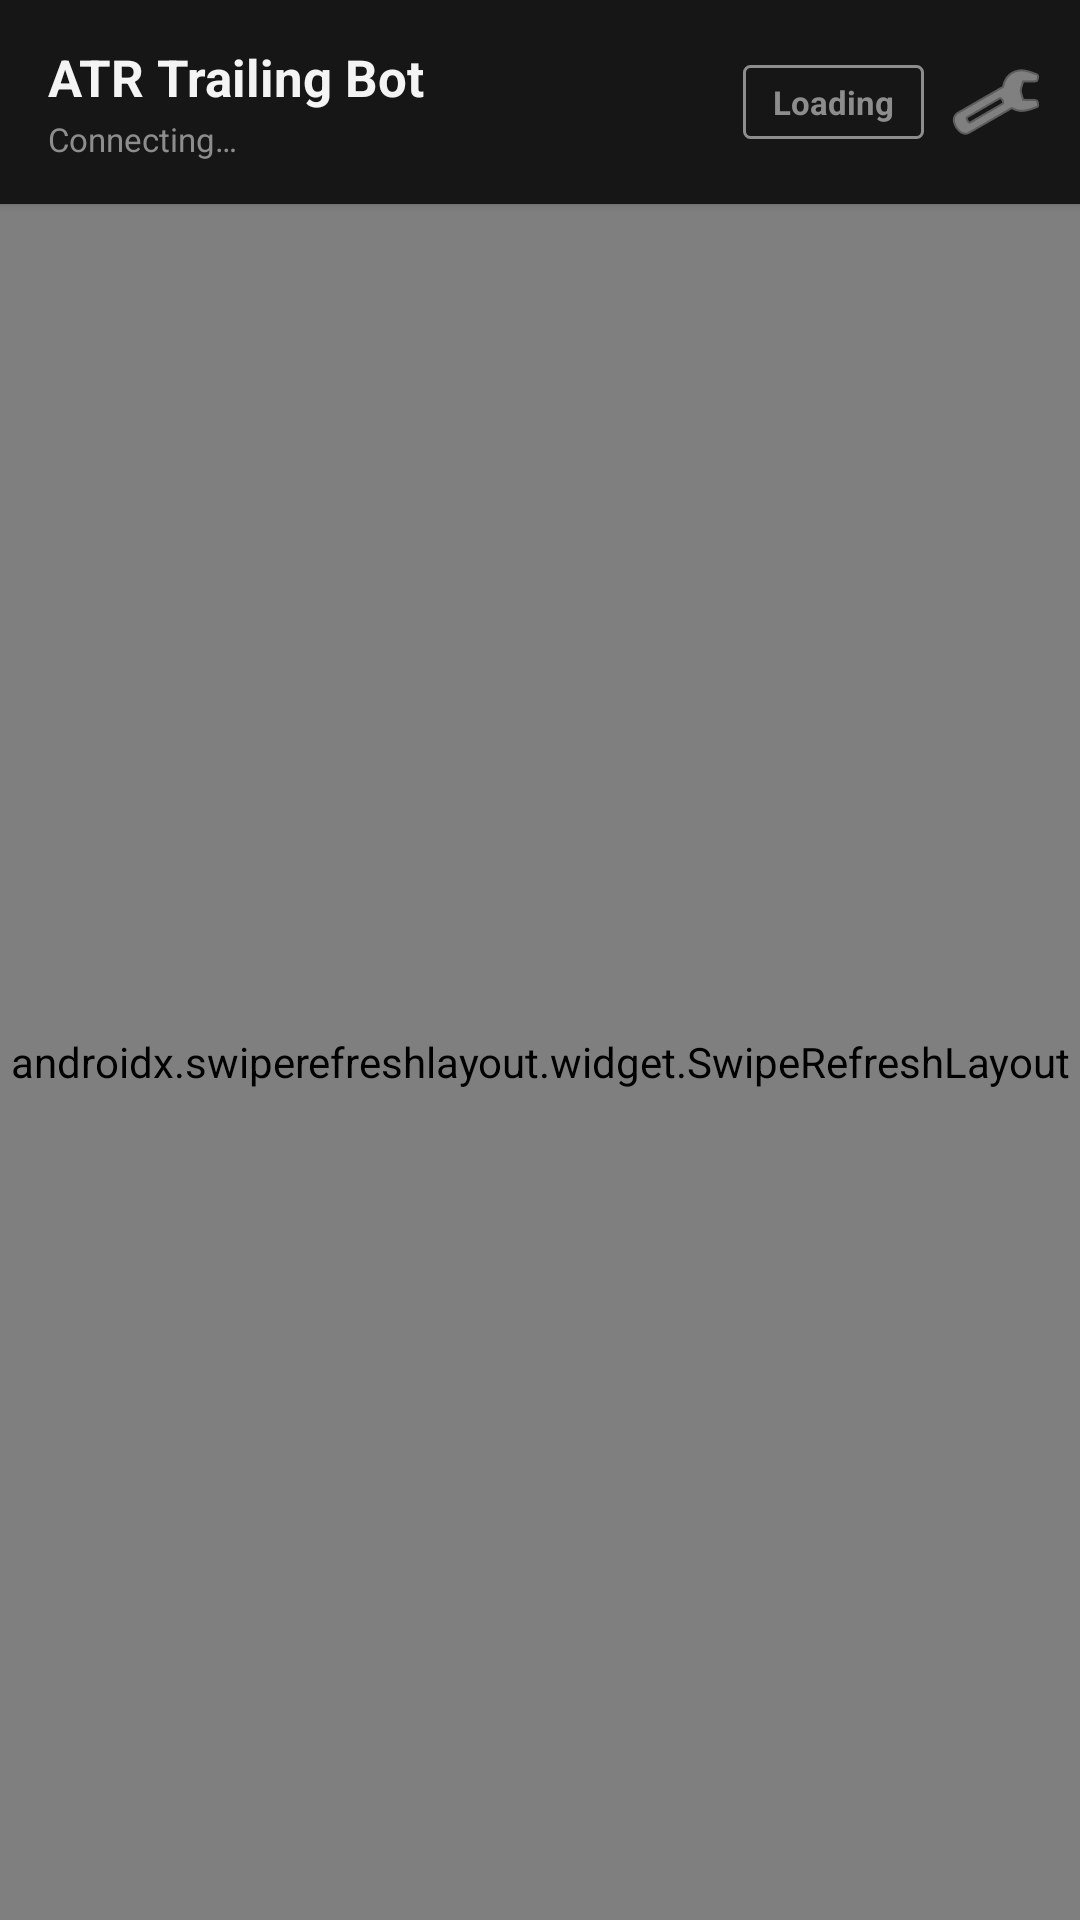

Where to tap for icons on this 1080w x 1920h app screen, as (x=x, y=y):
Settings: (x=996, y=102)
